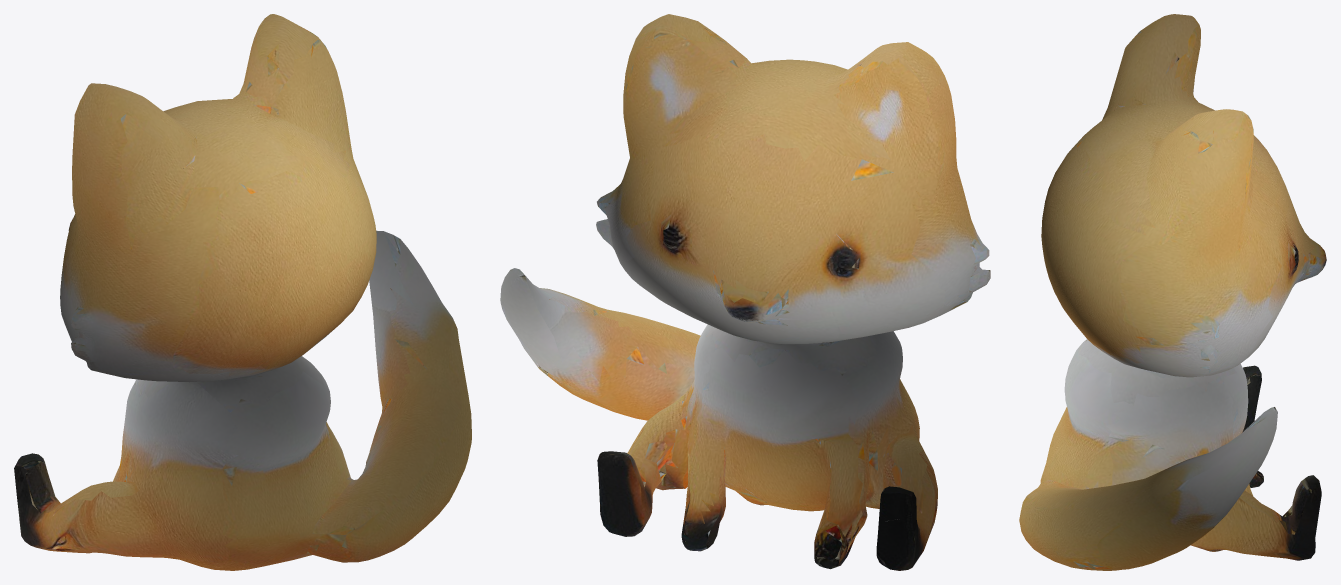
File: fox_doll_direct_sr_texture.glb
3 views of the same model, side by side, from view 1: azimuth 30°, elevation 25°; view 2: azimuth 150°, elevation 25°; view 3: azimuth 270°, elevation 25° (orthographic). The views are drawn at different scales.
Size of the model in its own units: 1.43 by 1.6 by 0.9776.
1 material, 1 textured.
